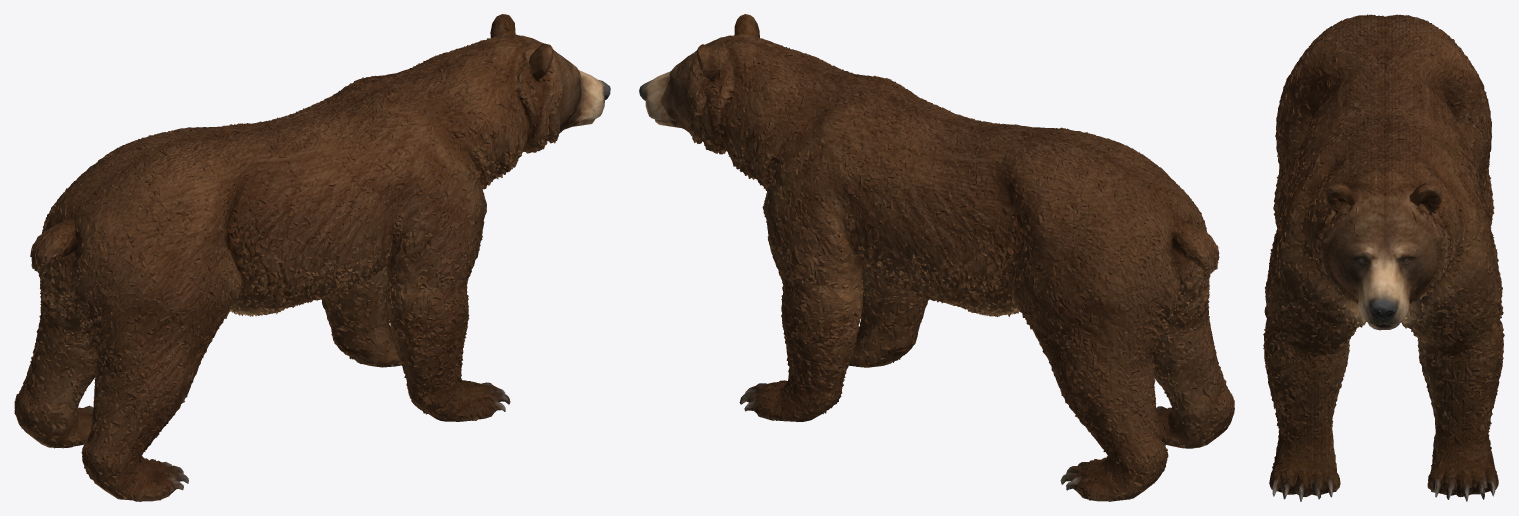
3 views of the same model, side by side, from view 1: azimuth 30°, elevation 25°; view 2: azimuth 150°, elevation 25°; view 3: azimuth 270°, elevation 25° (orthographic). The views are drawn at different scales.
Parts seen in each view (by area): view 1: Authored orientation; view 2: Authored orientation; view 3: Authored orientation.
Boxes of the visible parts, box(x1,y1,x2,y2) form: Authored orientation: box(14, 14, 610, 501); Authored orientation: box(639, 14, 1234, 501); Authored orientation: box(1263, 14, 1504, 501).
Size of the model in its own units: 1 by 0.5453 by 0.3387.
Materials: 1 (1 with a texture image).
